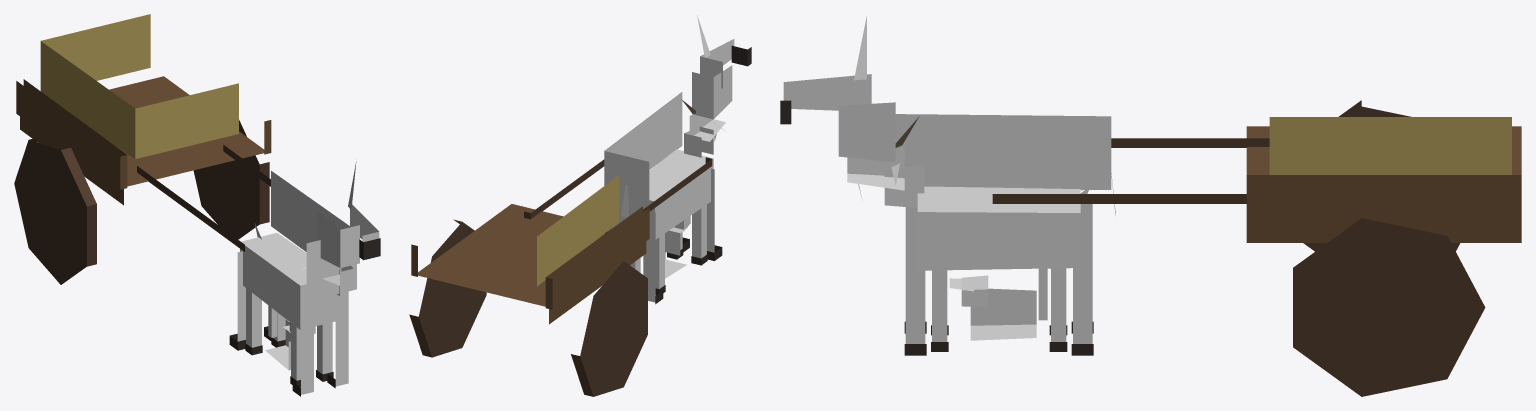
File: life_beasts.glb
3 views of the same model, side by side, from view 1: azimuth 30°, elevation 25°; view 2: azimuth 150°, elevation 25°; view 3: azimuth 270°, elevation 25° (orthographic). The views are drawn at different scales.
Parts seen in each view (by area): view 1: donkey.cart, donkey.wheels, goat.body, donkey.body, donkey.head, donkey.leg_fr, donkey.leg_fl, goat.leg_hl, goat.leg_fr, donkey.leg_hl, goat.leg_fl, cat.body (+2 smaller); view 2: donkey.cart, donkey.wheels, donkey.body, goat.body, donkey.head, goat.head, donkey.leg_hl, goat.leg_fl, donkey.leg_fl, cat.body, goat.leg_hl; view 3: donkey.cart, donkey.wheels, donkey.body, goat.body, donkey.head, cat.body, goat.head, donkey.leg_fr, donkey.leg_hr, goat.leg_hr, goat.leg_fr.
Boxes of the visible parts, x1,y1,x2,y2 form: donkey.cart: (16, 14, 271, 251); donkey.wheels: (14, 120, 269, 284); goat.body: (240, 223, 335, 329); donkey.body: (271, 171, 356, 301); donkey.head: (317, 161, 380, 267); donkey.leg_fr: (327, 291, 348, 388); donkey.leg_fl: (292, 297, 313, 396); goat.leg_hl: (245, 288, 262, 355); goat.leg_fr: (316, 322, 333, 381); donkey.leg_hl: (229, 251, 245, 350); goat.leg_fl: (290, 323, 300, 387); cat.body: (265, 320, 290, 370); donkey.cart: (411, 157, 712, 324); donkey.wheels: (409, 219, 647, 396); donkey.body: (604, 92, 682, 217); goat.body: (623, 149, 713, 239); donkey.head: (692, 15, 751, 119); goat.head: (681, 99, 725, 157); donkey.leg_hl: (643, 211, 663, 304); goat.leg_fl: (691, 204, 707, 265); donkey.leg_fl: (707, 168, 722, 260); cat.body: (665, 227, 687, 278); goat.leg_hl: (655, 233, 665, 295); donkey.cart: (992, 117, 1521, 242); donkey.wheels: (1293, 100, 1485, 396); donkey.body: (895, 114, 1115, 215); goat.body: (917, 185, 1091, 270); donkey.head: (780, 16, 895, 161); cat.body: (961, 275, 1036, 340); goat.head: (847, 116, 924, 207); donkey.leg_fr: (904, 217, 926, 355); donkey.leg_hr: (1071, 217, 1093, 355); goat.leg_hr: (1049, 268, 1067, 351); goat.leg_fr: (931, 270, 948, 351).
Size of the model in its own units: 1.27 by 1.58 by 3.37.
